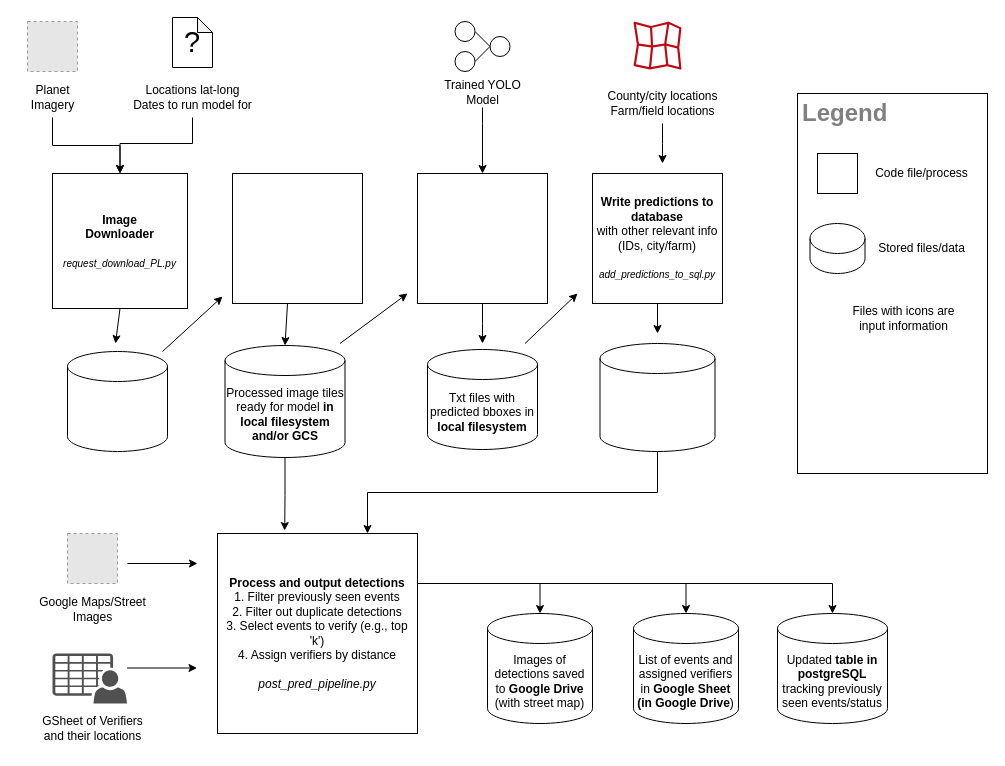
Image size: 1005x766. Some labels were removed from this diagram. Grey dashed boxes stand in for pictures. Here are the shapes that lost their labels. From the top down, the centre of each, then its label:
[297,238]: Image processing tile_and_filter_tiffs.py
[482,238]: Predictor run_yolov5.py
[117,401]: Relevant Planet images stored in GCS bucket
[657,397]: postgreSQL database table with one row for each detection
